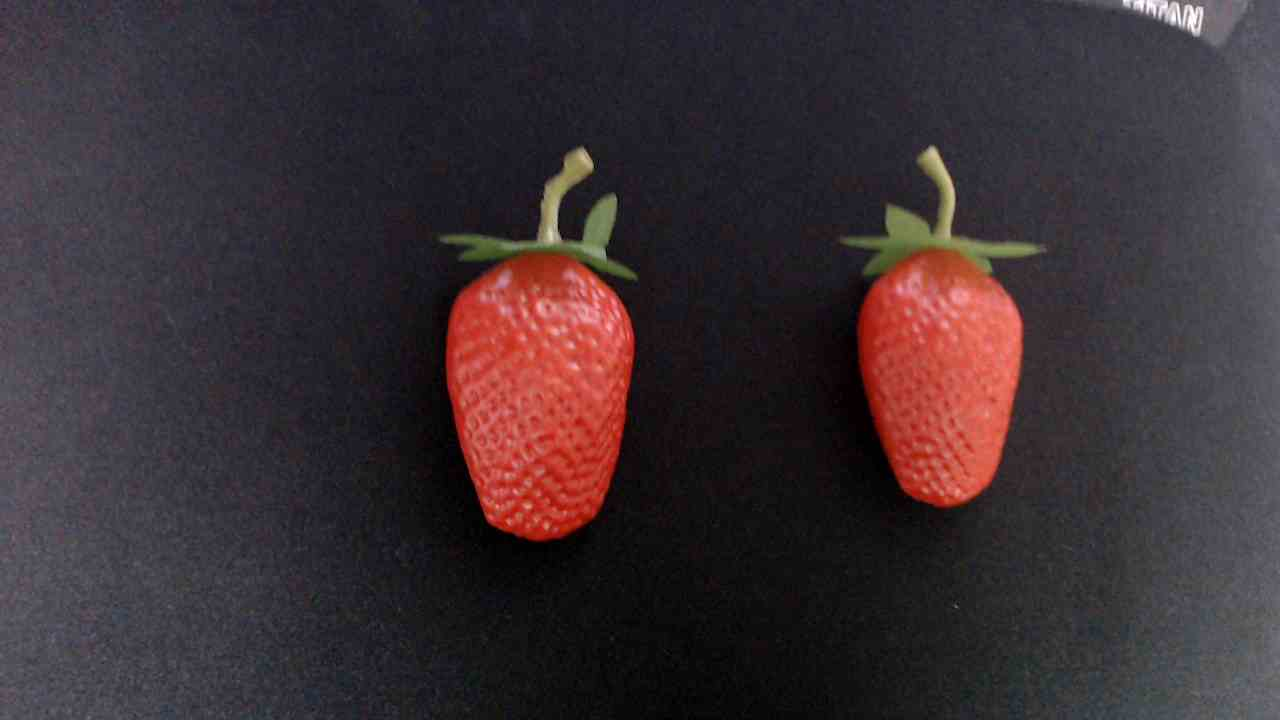strawberry: (430, 220, 655, 549), (844, 214, 1038, 521)
